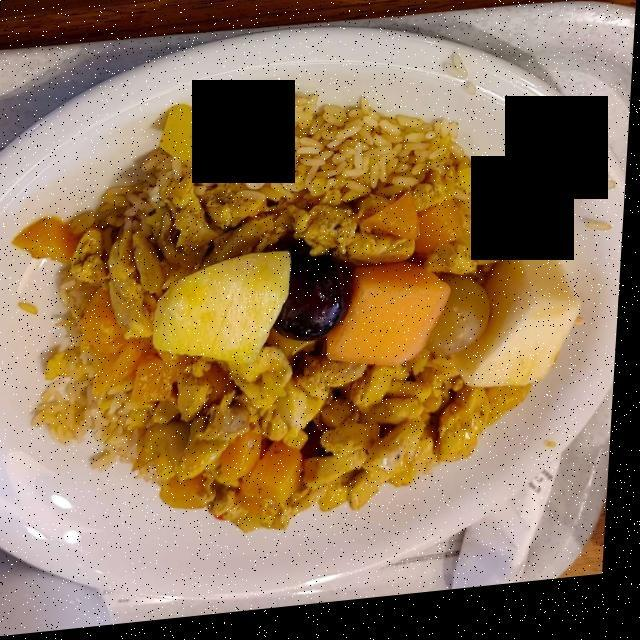chicken-curry: (108, 349, 526, 523)
fruit-salad: (163, 244, 569, 397)
rice: (33, 104, 523, 453)
